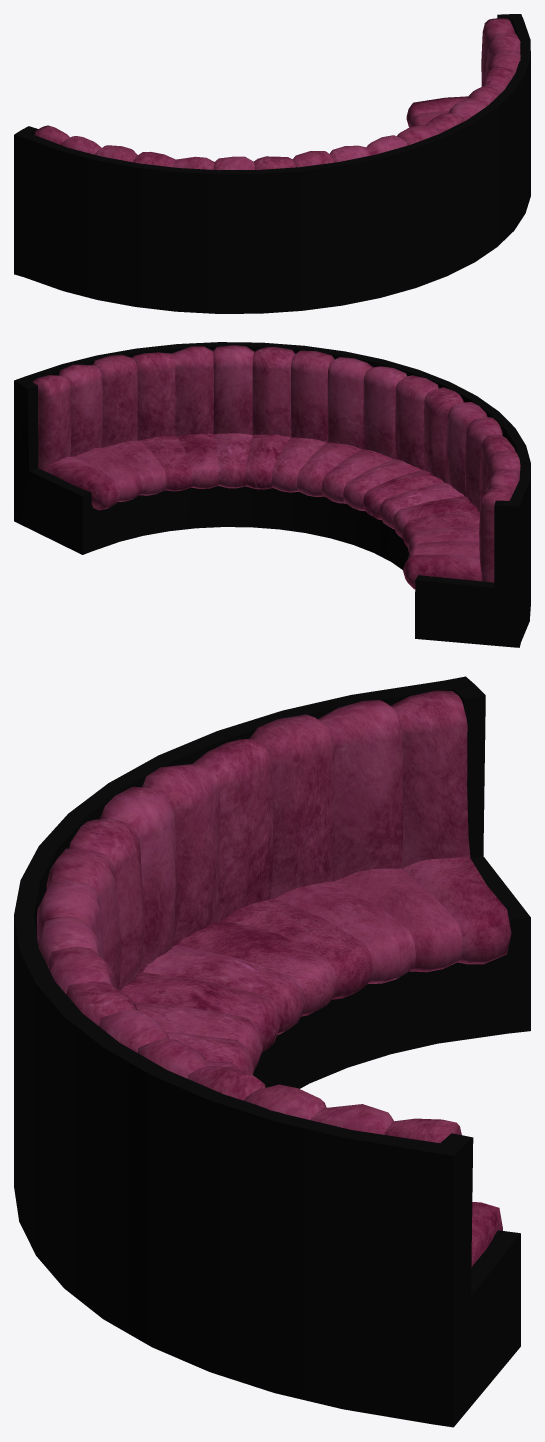
The model's file is bar_couch.glb.
3 renders of one model, top to bottom at view 1: azimuth 30°, elevation 25°; view 2: azimuth 150°, elevation 25°; view 3: azimuth 270°, elevation 25°, orthographic. The views are drawn at different scales.
Parts seen in each view (by area): view 1: BarCoach_Back1_0, LowBack4_Leather1_0, LowSeat4_Leather1_0; view 2: LowBack4_Leather1_0, BarCoach_Back1_0, LowSeat4_Leather1_0; view 3: BarCoach_Back1_0, LowBack4_Leather1_0, LowSeat4_Leather1_0.
Part boxes in pixels (box(x1,y1,x2,y2)): BarCoach_Back1_0: box(14, 14, 530, 313); LowBack4_Leather1_0: box(34, 18, 520, 170); LowSeat4_Leather1_0: box(406, 96, 468, 127); LowBack4_Leather1_0: box(33, 345, 520, 582); BarCoach_Back1_0: box(14, 342, 530, 647); LowSeat4_Leather1_0: box(47, 433, 481, 589); BarCoach_Back1_0: box(14, 676, 530, 1427); LowBack4_Leather1_0: box(37, 690, 470, 1142); LowSeat4_Leather1_0: box(120, 855, 511, 1266).
Bounding box in the file's own units: 10.97 × 3 × 5.
Materials: 2 (1 with a texture image).
